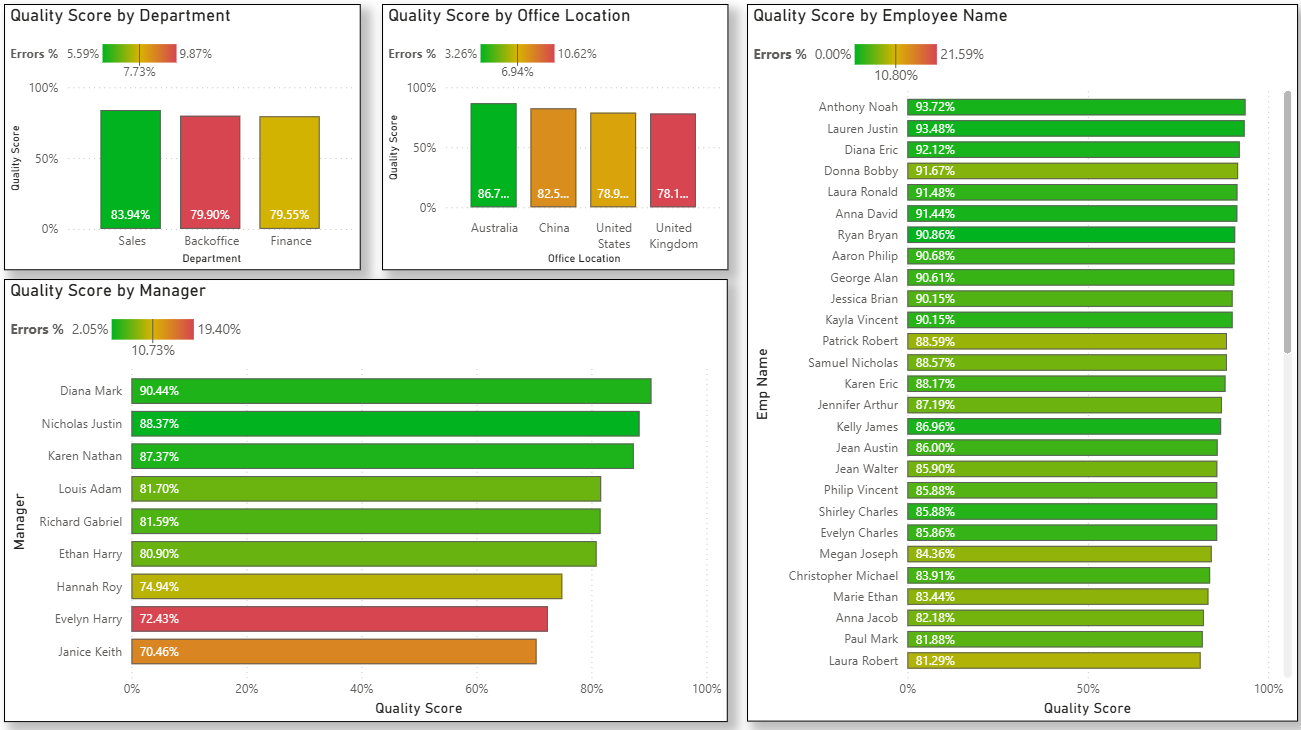

What the dashboard file says about the page in this screenshot:
{"tool":"powerbi","page":{"name":"Overall Analysis","canvas":[1280,720],"ordinal":2},"visuals":[{"type":"clusteredColumnChart","title":"Quality Score by Department","fields":{"Category":["Employee Details.Department"],"Y":["All_Measures.Quality Score"]},"box":[13.6,13.6,347.2,258.7],"z":0},{"type":"clusteredColumnChart","title":"Quality Score by Office Location","fields":{"Category":["Employee Details.Office Location"],"Y":["All_Measures.Quality Score"]},"box":[381.3,13.6,336.5,258.7],"z":1},{"type":"clusteredBarChart","title":"Quality Score by Manager","fields":{"Category":["Employee Details.Manager"],"Y":["All_Measures.Quality Score"]},"box":[13.6,281.1,704.2,430.9],"z":2},{"type":"clusteredBarChart","title":"Quality Score by Employee Name","fields":{"Y":["All_Measures.Quality Score"],"Category":["Employee Details.Emp Name"]},"box":[736.3,13.6,535.9,698.4],"z":3}]}

Visuals, with their boxes in screenshot pixels (x1, y1, x2, y2), scaled from the page's 1280x720 canvas onto the 1301x730 screenshot:
"Quality Score by Department" clusteredColumnChart: x1=14 y1=14 x2=367 y2=276
"Quality Score by Office Location" clusteredColumnChart: x1=388 y1=14 x2=730 y2=276
"Quality Score by Manager" clusteredBarChart: x1=14 y1=285 x2=730 y2=722
"Quality Score by Employee Name" clusteredBarChart: x1=748 y1=14 x2=1293 y2=722
